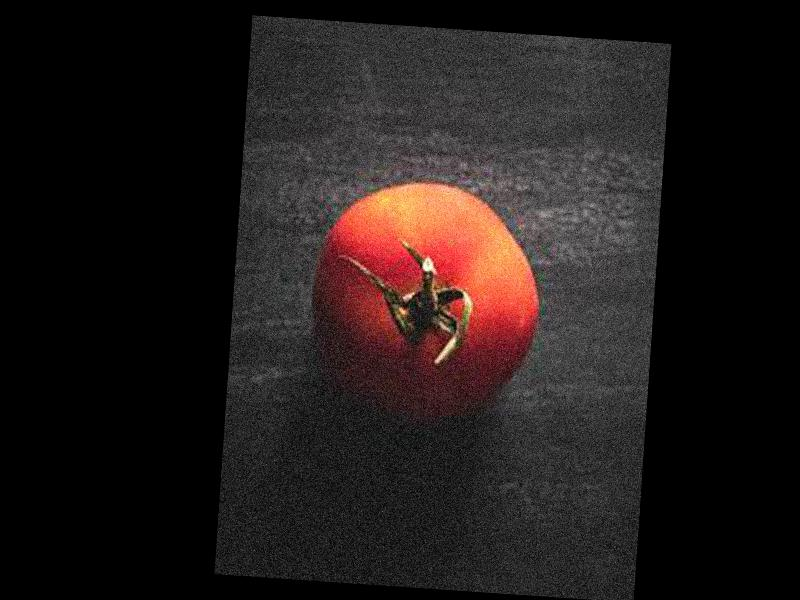Tomato: (308, 174, 546, 424)
